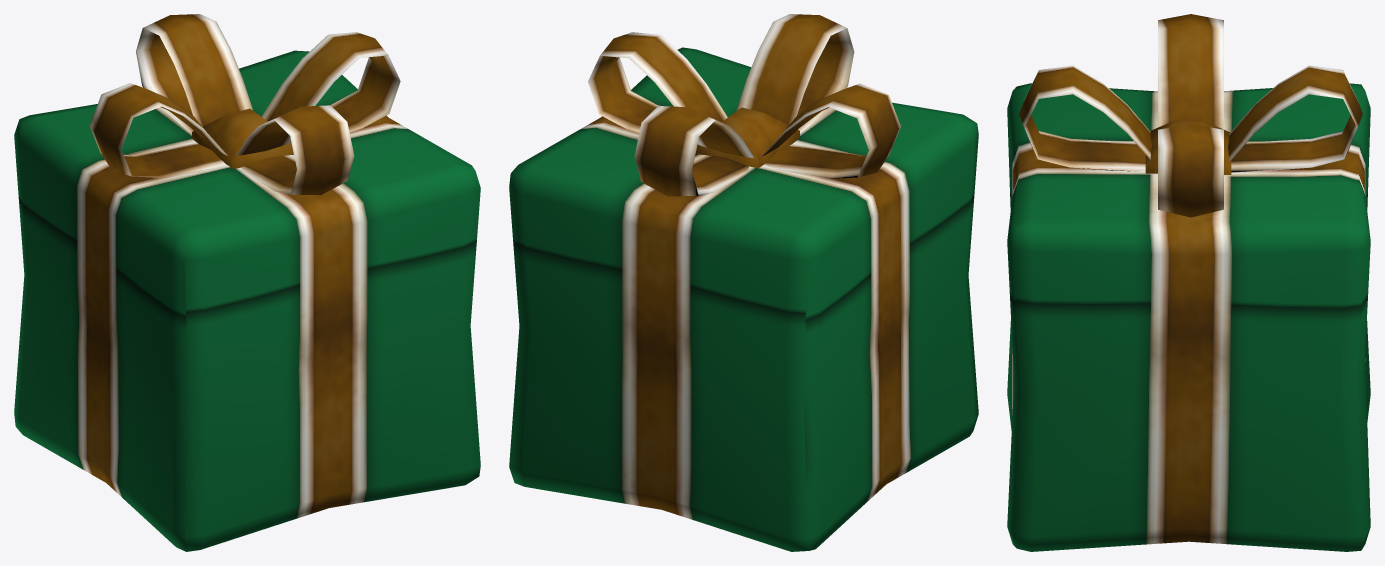
The model's file is GAM0110025.fbx.
3 views of the same model, side by side, from view 1: azimuth 30°, elevation 25°; view 2: azimuth 150°, elevation 25°; view 3: azimuth 270°, elevation 25° (orthographic). The views are drawn at different scales.
Parts seen in each view (by area): view 1: smGAM0110025; view 2: smGAM0110025; view 3: smGAM0110025.
Part boxes in pixels (<box>): smGAM0110025: <box>14,14,480,551</box>; smGAM0110025: <box>509,14,978,551</box>; smGAM0110025: <box>1007,14,1370,551</box>.
Bounding box in the file's own units: 25.26 × 31.22 × 25.26.
1 material, 1 textured.
